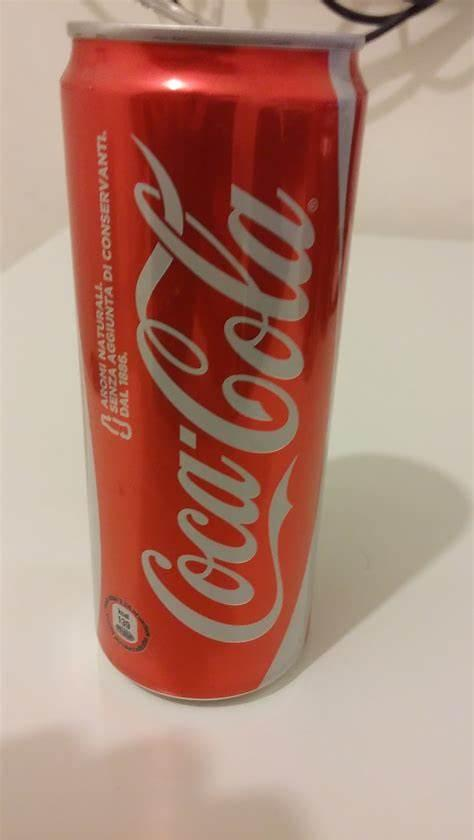metal: (61, 22, 366, 700)
